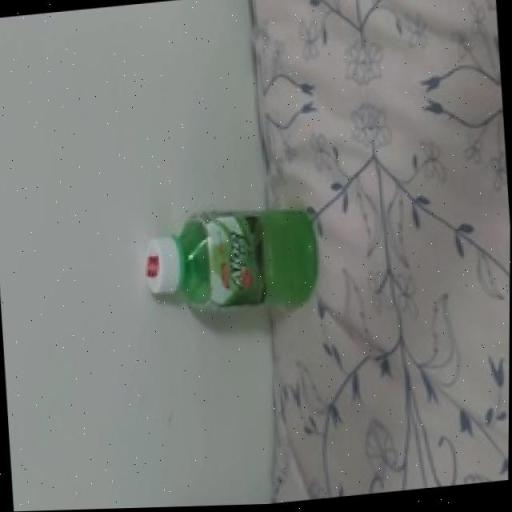plastic: (144, 211, 319, 312)
